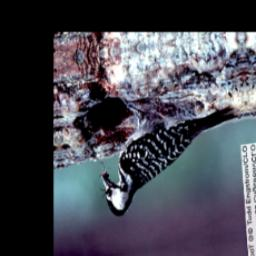Woodpecker: (95, 93, 241, 221)
